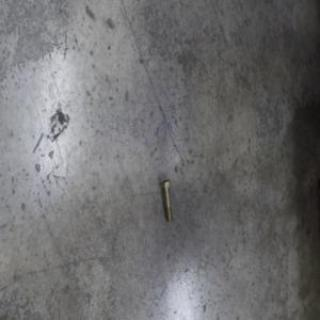Bolttrack_idkeyframe: (159, 177, 173, 222)
